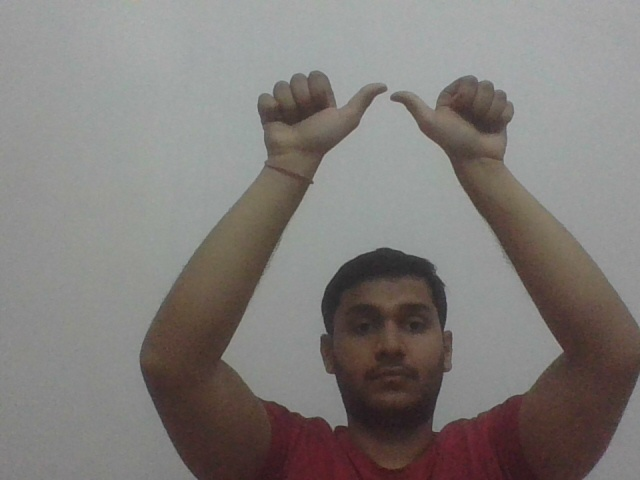A: (254, 66, 520, 166)
